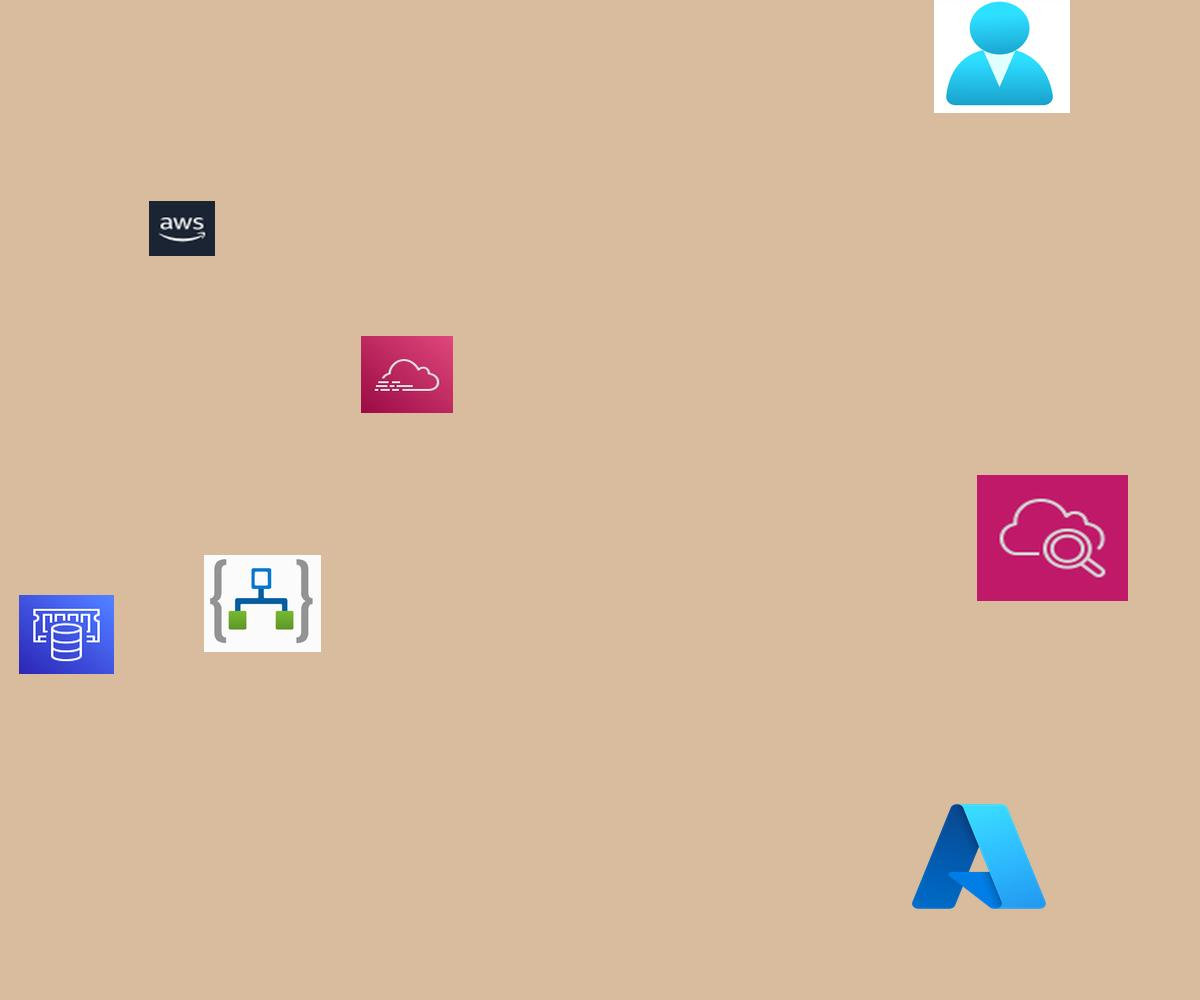AWS-Cloud-logo: (149, 201, 215, 256)
AWS-CloudTrail: (361, 336, 453, 413)
AWS-CloudWatch: (977, 475, 1128, 601)
AWS-ElastiCache: (19, 595, 114, 674)
Azure_integration-204-Logic-Apps: (204, 555, 321, 652)
Azure_services: (906, 796, 1052, 917)
Azure_users: (934, 0, 1070, 113)
